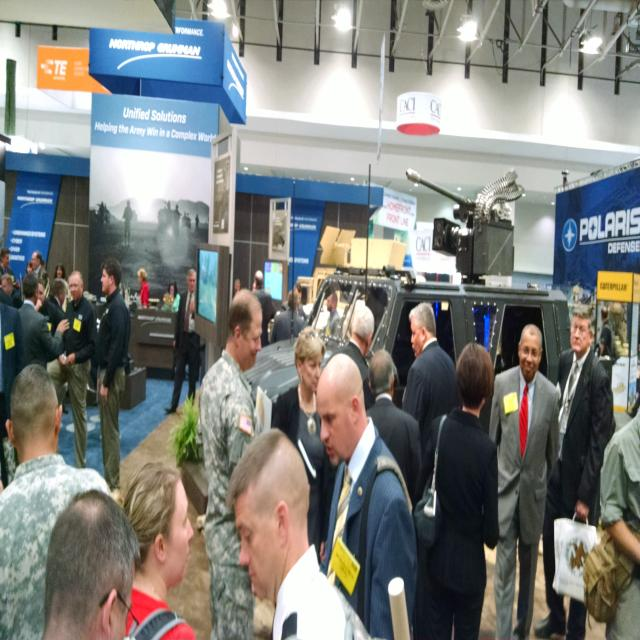body: (224, 426, 374, 640), (313, 350, 422, 640), (0, 363, 111, 640), (534, 303, 614, 639), (412, 339, 501, 640), (196, 283, 268, 640), (486, 318, 562, 640), (33, 476, 142, 640), (271, 324, 335, 566), (115, 459, 198, 640), (580, 406, 639, 638), (364, 346, 423, 518), (46, 270, 96, 468), (400, 300, 458, 461), (94, 258, 130, 492), (94, 190, 213, 252), (0, 243, 72, 323), (325, 303, 376, 412), (164, 268, 201, 414), (0, 323, 28, 503), (250, 269, 277, 348), (37, 276, 70, 338), (270, 290, 307, 344), (322, 291, 344, 346), (280, 281, 308, 323), (598, 305, 614, 353), (231, 276, 260, 300), (161, 280, 181, 312), (137, 267, 150, 310)
